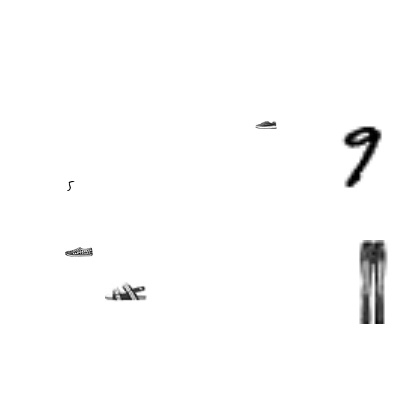5: (63, 178, 77, 192)
9: (318, 106, 402, 190)
Sandal: (105, 270, 147, 312)
Sneaker: (65, 238, 93, 266), (255, 113, 277, 135)
Trouser: (330, 240, 414, 324)
